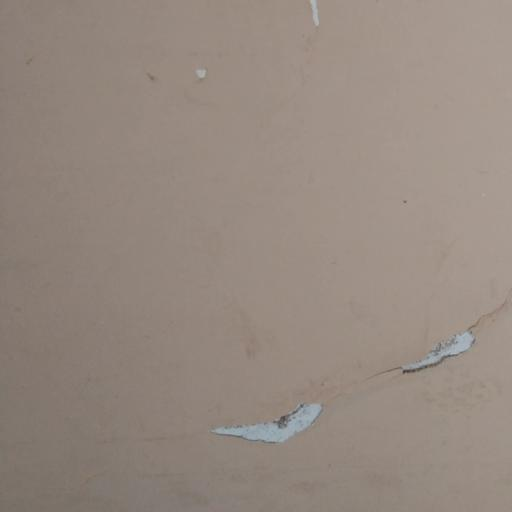peeling: (376, 293, 512, 407), (199, 385, 343, 461), (174, 65, 230, 99), (297, 0, 334, 38)
